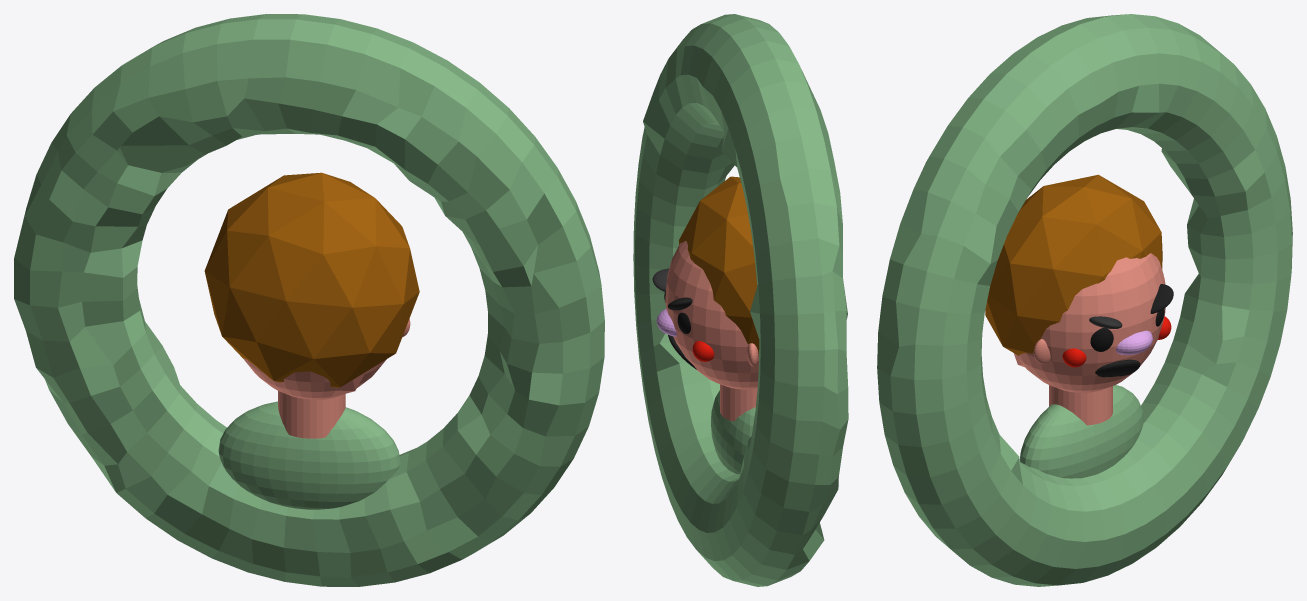
File: padreEnojado 1.fbx
The picture shows the model from 3 angles, left to right: view 1: azimuth 30°, elevation 25°; view 2: azimuth 150°, elevation 25°; view 3: azimuth 270°, elevation 25°; orthographic projection. The views are drawn at different scales.
Visible parts, largest first — view 1: Rosca.001, Esfera geodésica, Esfera.004, Cilindro, Esfera; view 2: Rosca.001, Esfera geodésica, Esfera, Esfera.004, Cilindro, Esfera.011, Esfera.001; view 3: Rosca.001, Esfera geodésica, Esfera, Esfera.004, Cilindro, Esfera.001, Esfera.007.
Boxes of the visible parts, x1=… form: Rosca.001: x1=14, y1=14, x2=604, y2=586; Esfera geodésica: x1=204, y1=172, x2=419, y2=387; Esfera.004: x1=218, y1=401, x2=400, y2=509; Cilindro: x1=278, y1=391, x2=345, y2=438; Esfera: x1=243, y1=358, x2=386, y2=399; Rosca.001: x1=633, y1=14, x2=848, y2=586; Esfera geodésica: x1=679, y1=176, x2=759, y2=356; Esfera: x1=665, y1=241, x2=758, y2=389; Esfera.004: x1=711, y1=390, x2=755, y2=474; Cilindro: x1=720, y1=384, x2=757, y2=421; Esfera.011: x1=692, y1=341, x2=714, y2=361; Esfera.001: x1=656, y1=308, x2=676, y2=336; Rosca.001: x1=877, y1=14, x2=1292, y2=586; Esfera geodésica: x1=985, y1=174, x2=1162, y2=355; Esfera: x1=1014, y1=253, x2=1165, y2=392; Esfera.004: x1=1019, y1=385, x2=1143, y2=478; Cilindro: x1=1049, y1=385, x2=1112, y2=425; Esfera.001: x1=1116, y1=330, x2=1152, y2=355; Esfera.007: x1=1095, y1=359, x2=1140, y2=377.
Bounding box in the file's own units: 602 × 824 × 580.
